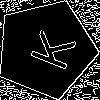K: (21, 24, 77, 73)
